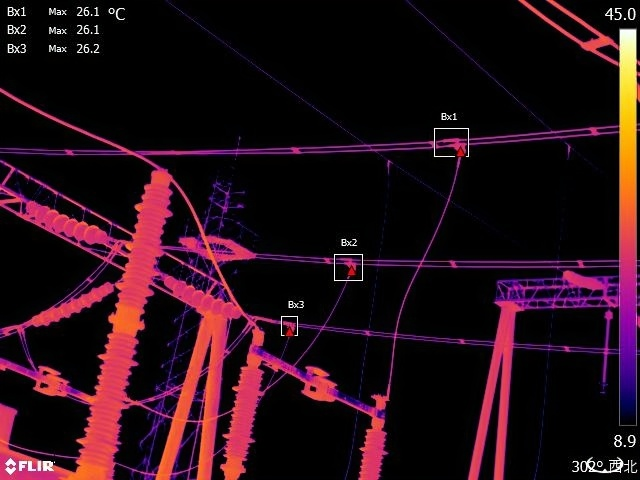clamp: (448, 134, 473, 164), (339, 250, 361, 280), (280, 315, 300, 338)
insulator: (26, 193, 117, 249), (159, 270, 245, 325), (30, 280, 117, 330), (562, 264, 609, 295), (598, 306, 611, 389)
post insulator: (77, 169, 179, 471), (223, 358, 266, 467), (353, 421, 393, 480)
switch: (242, 339, 388, 423), (1, 350, 97, 410)
